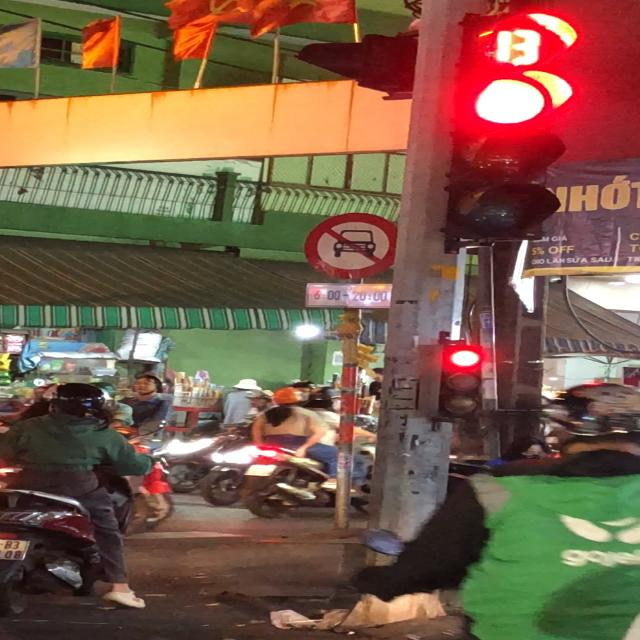Bien bao cam xe oto: (301, 211, 402, 280)
